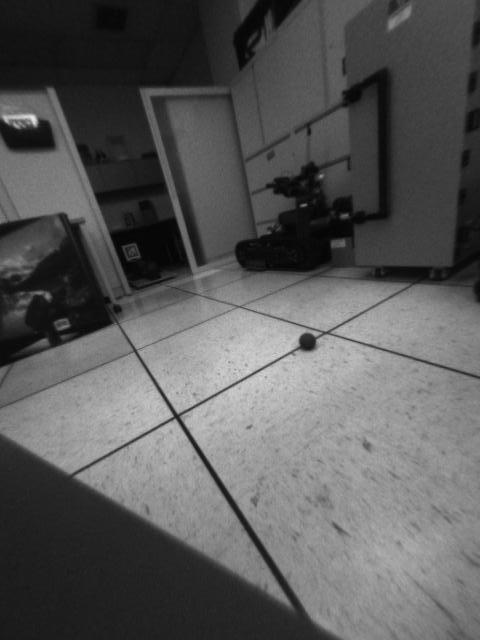dogtoy: (292, 327, 322, 356)
